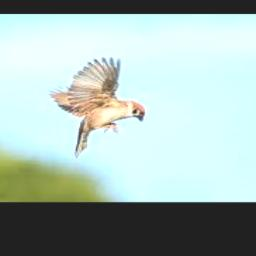Sparrow: (49, 57, 146, 157)
